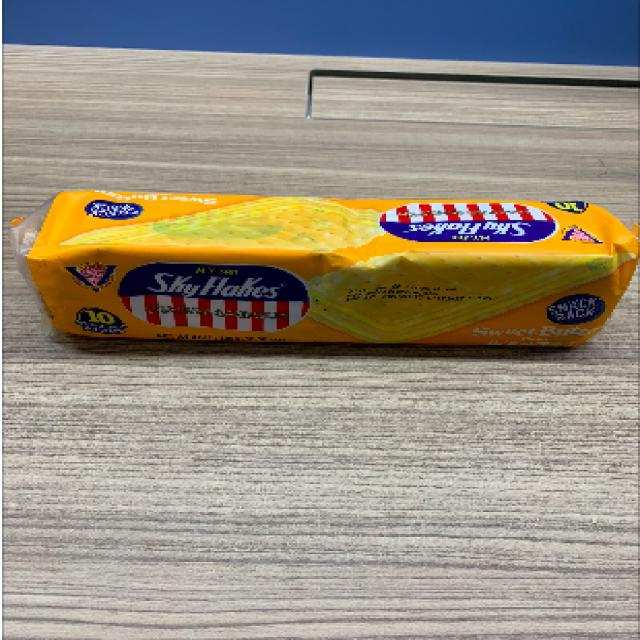object_name: (24, 202, 622, 347)
